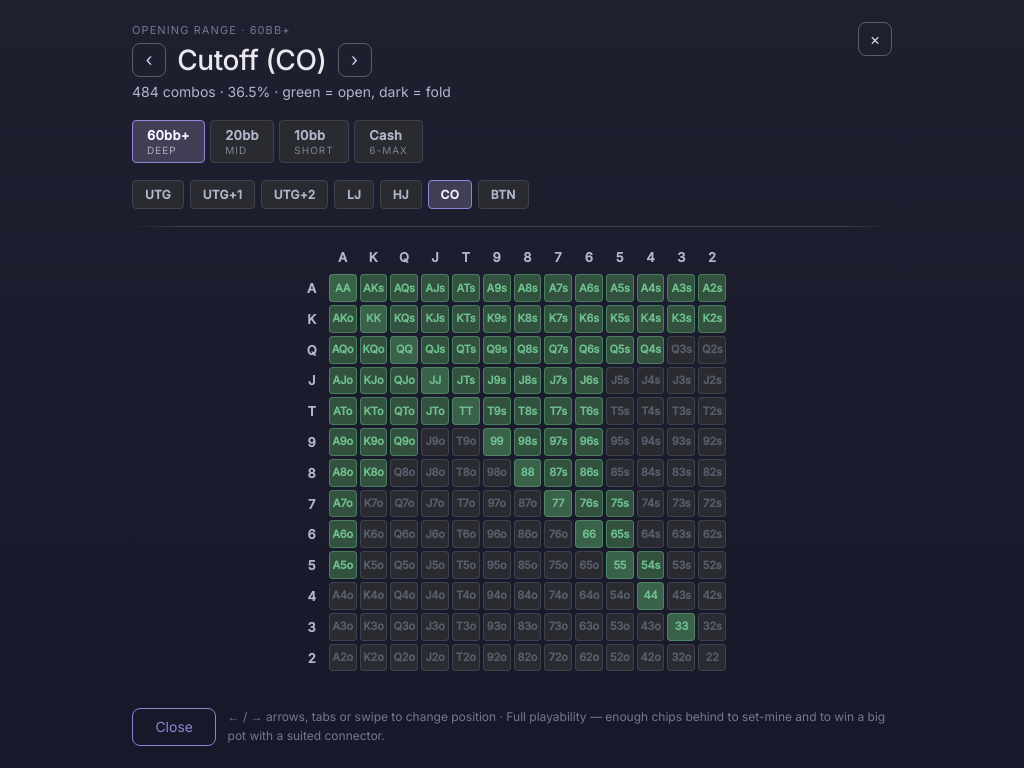
Scenario: RangeSheet navigation › opens on the depth it was handed, and switching redraws the chart
Check: the text "Opening range · 60bb+" is shown, box [132,23,291,37]
# Flip to 10bb — same seat, a jamming chart of a different size.
What coordinates should you click on to do the following:
click the tab "10bb Short"
I would click on:
 (314, 141)
Its box is [279,120,349,163].
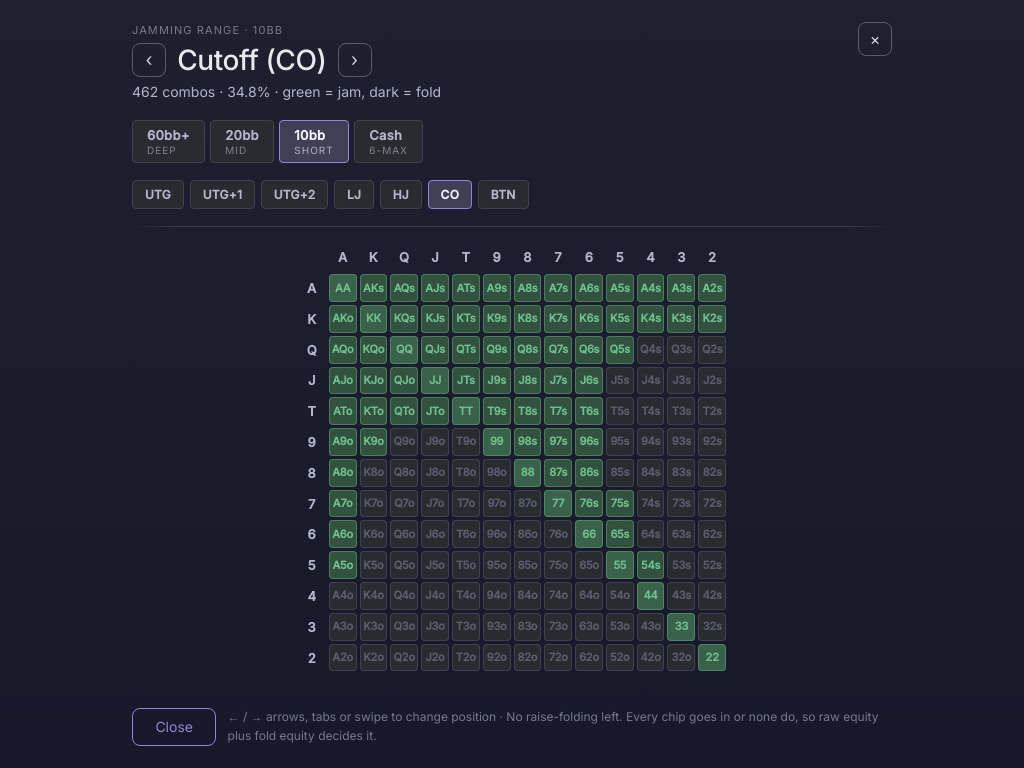
Check: the text "Jamming range · 10bb" is shown, box [132,23,283,37]
Check: the text "462 combos · 34.8% · green = jam, dark = fold" is shown, box [132,81,441,103]
